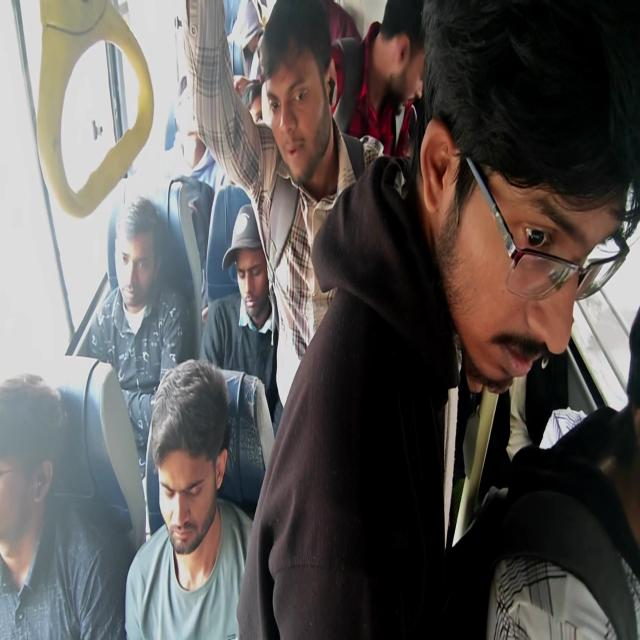person: (425, 36, 626, 368), (548, 377, 640, 632), (154, 388, 239, 566), (274, 54, 334, 160), (233, 209, 279, 337), (104, 215, 159, 316), (5, 437, 49, 557), (377, 19, 431, 106), (162, 90, 201, 170), (240, 81, 274, 151), (235, 8, 263, 92)
